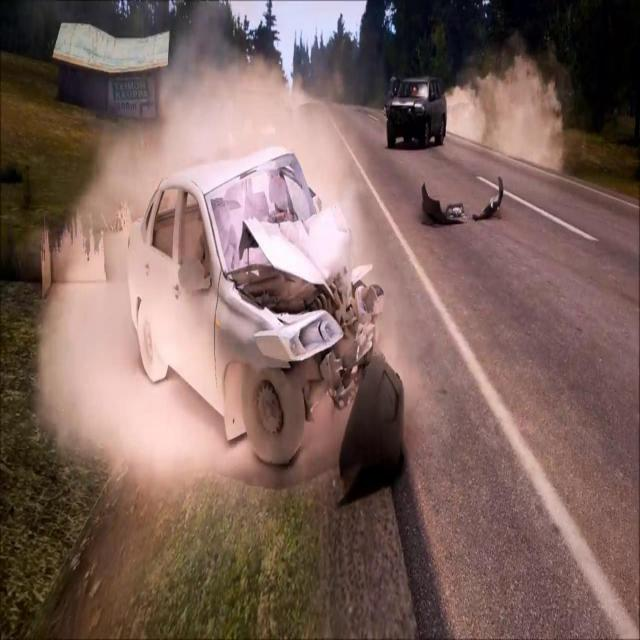accident: (123, 147, 387, 476)
